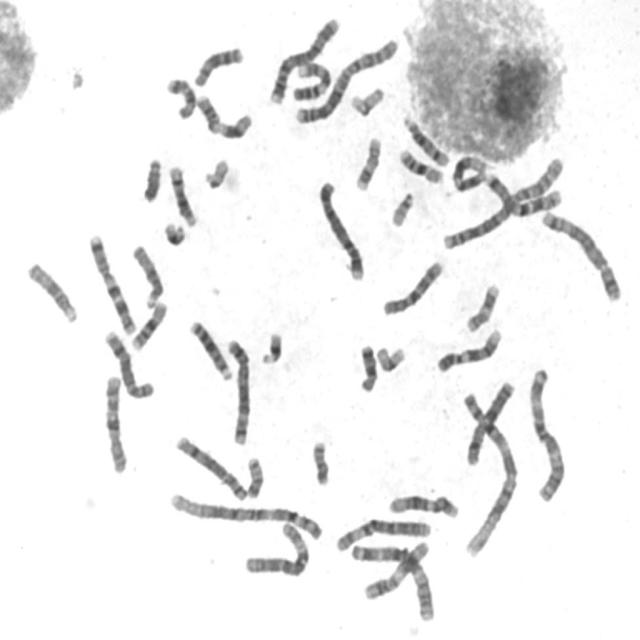A1: (458, 383, 520, 560), (164, 486, 326, 542)
A2: (439, 150, 566, 253), (290, 33, 400, 125)
A3: (348, 538, 436, 622), (525, 362, 567, 503)
B4: (265, 12, 342, 106), (314, 175, 366, 282)
B5: (537, 205, 624, 304), (223, 333, 252, 448)
C10: (379, 255, 446, 318), (100, 370, 130, 476)
C11: (359, 537, 432, 602), (192, 90, 254, 141)
C12: (385, 489, 461, 520), (448, 150, 490, 194)
C6: (240, 518, 312, 578), (332, 514, 433, 554)
C7: (84, 230, 138, 336), (481, 168, 564, 218)
C8: (172, 431, 249, 503), (100, 325, 156, 401)
C9: (432, 324, 503, 374), (290, 57, 334, 103)
D13: (186, 314, 234, 382), (190, 42, 245, 88)
D14: (399, 111, 451, 169), (164, 161, 198, 228)
D15: (22, 257, 80, 325), (128, 240, 165, 309)
E16: (127, 296, 169, 352), (395, 143, 445, 186)
E17: (462, 278, 502, 334), (351, 132, 383, 192)
E18: (162, 73, 197, 121), (355, 339, 379, 395)
F19: (346, 82, 386, 118), (373, 341, 407, 374)
F20: (308, 436, 332, 487), (242, 452, 266, 501)
G21: (256, 326, 284, 366), (160, 217, 188, 248)
G22: (387, 187, 416, 228), (200, 154, 230, 191)
X: (462, 376, 517, 469)
Y: (138, 154, 164, 204)
